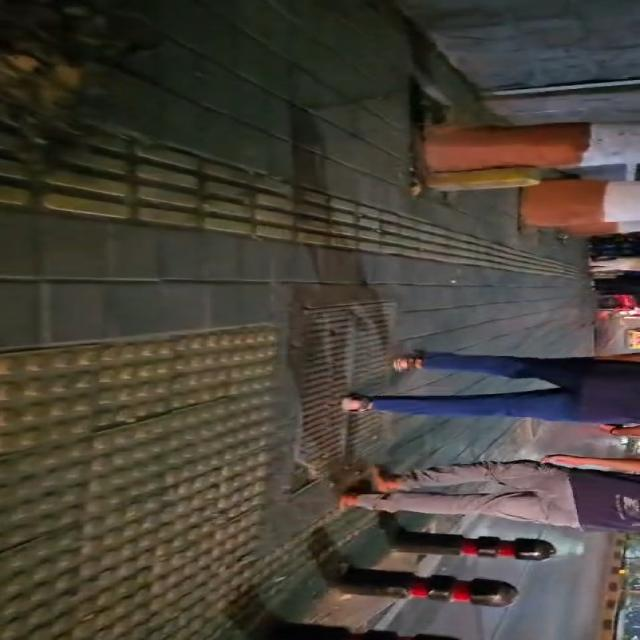obstacle: (341, 455, 639, 530), (342, 352, 639, 424), (335, 568, 518, 606), (390, 528, 555, 560), (268, 623, 453, 639)
